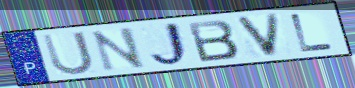B: (185, 18, 242, 64)
J: (148, 21, 194, 68)
L: (288, 12, 337, 54)
N: (89, 26, 149, 73)
U: (39, 29, 96, 77)
V: (232, 12, 282, 59)
